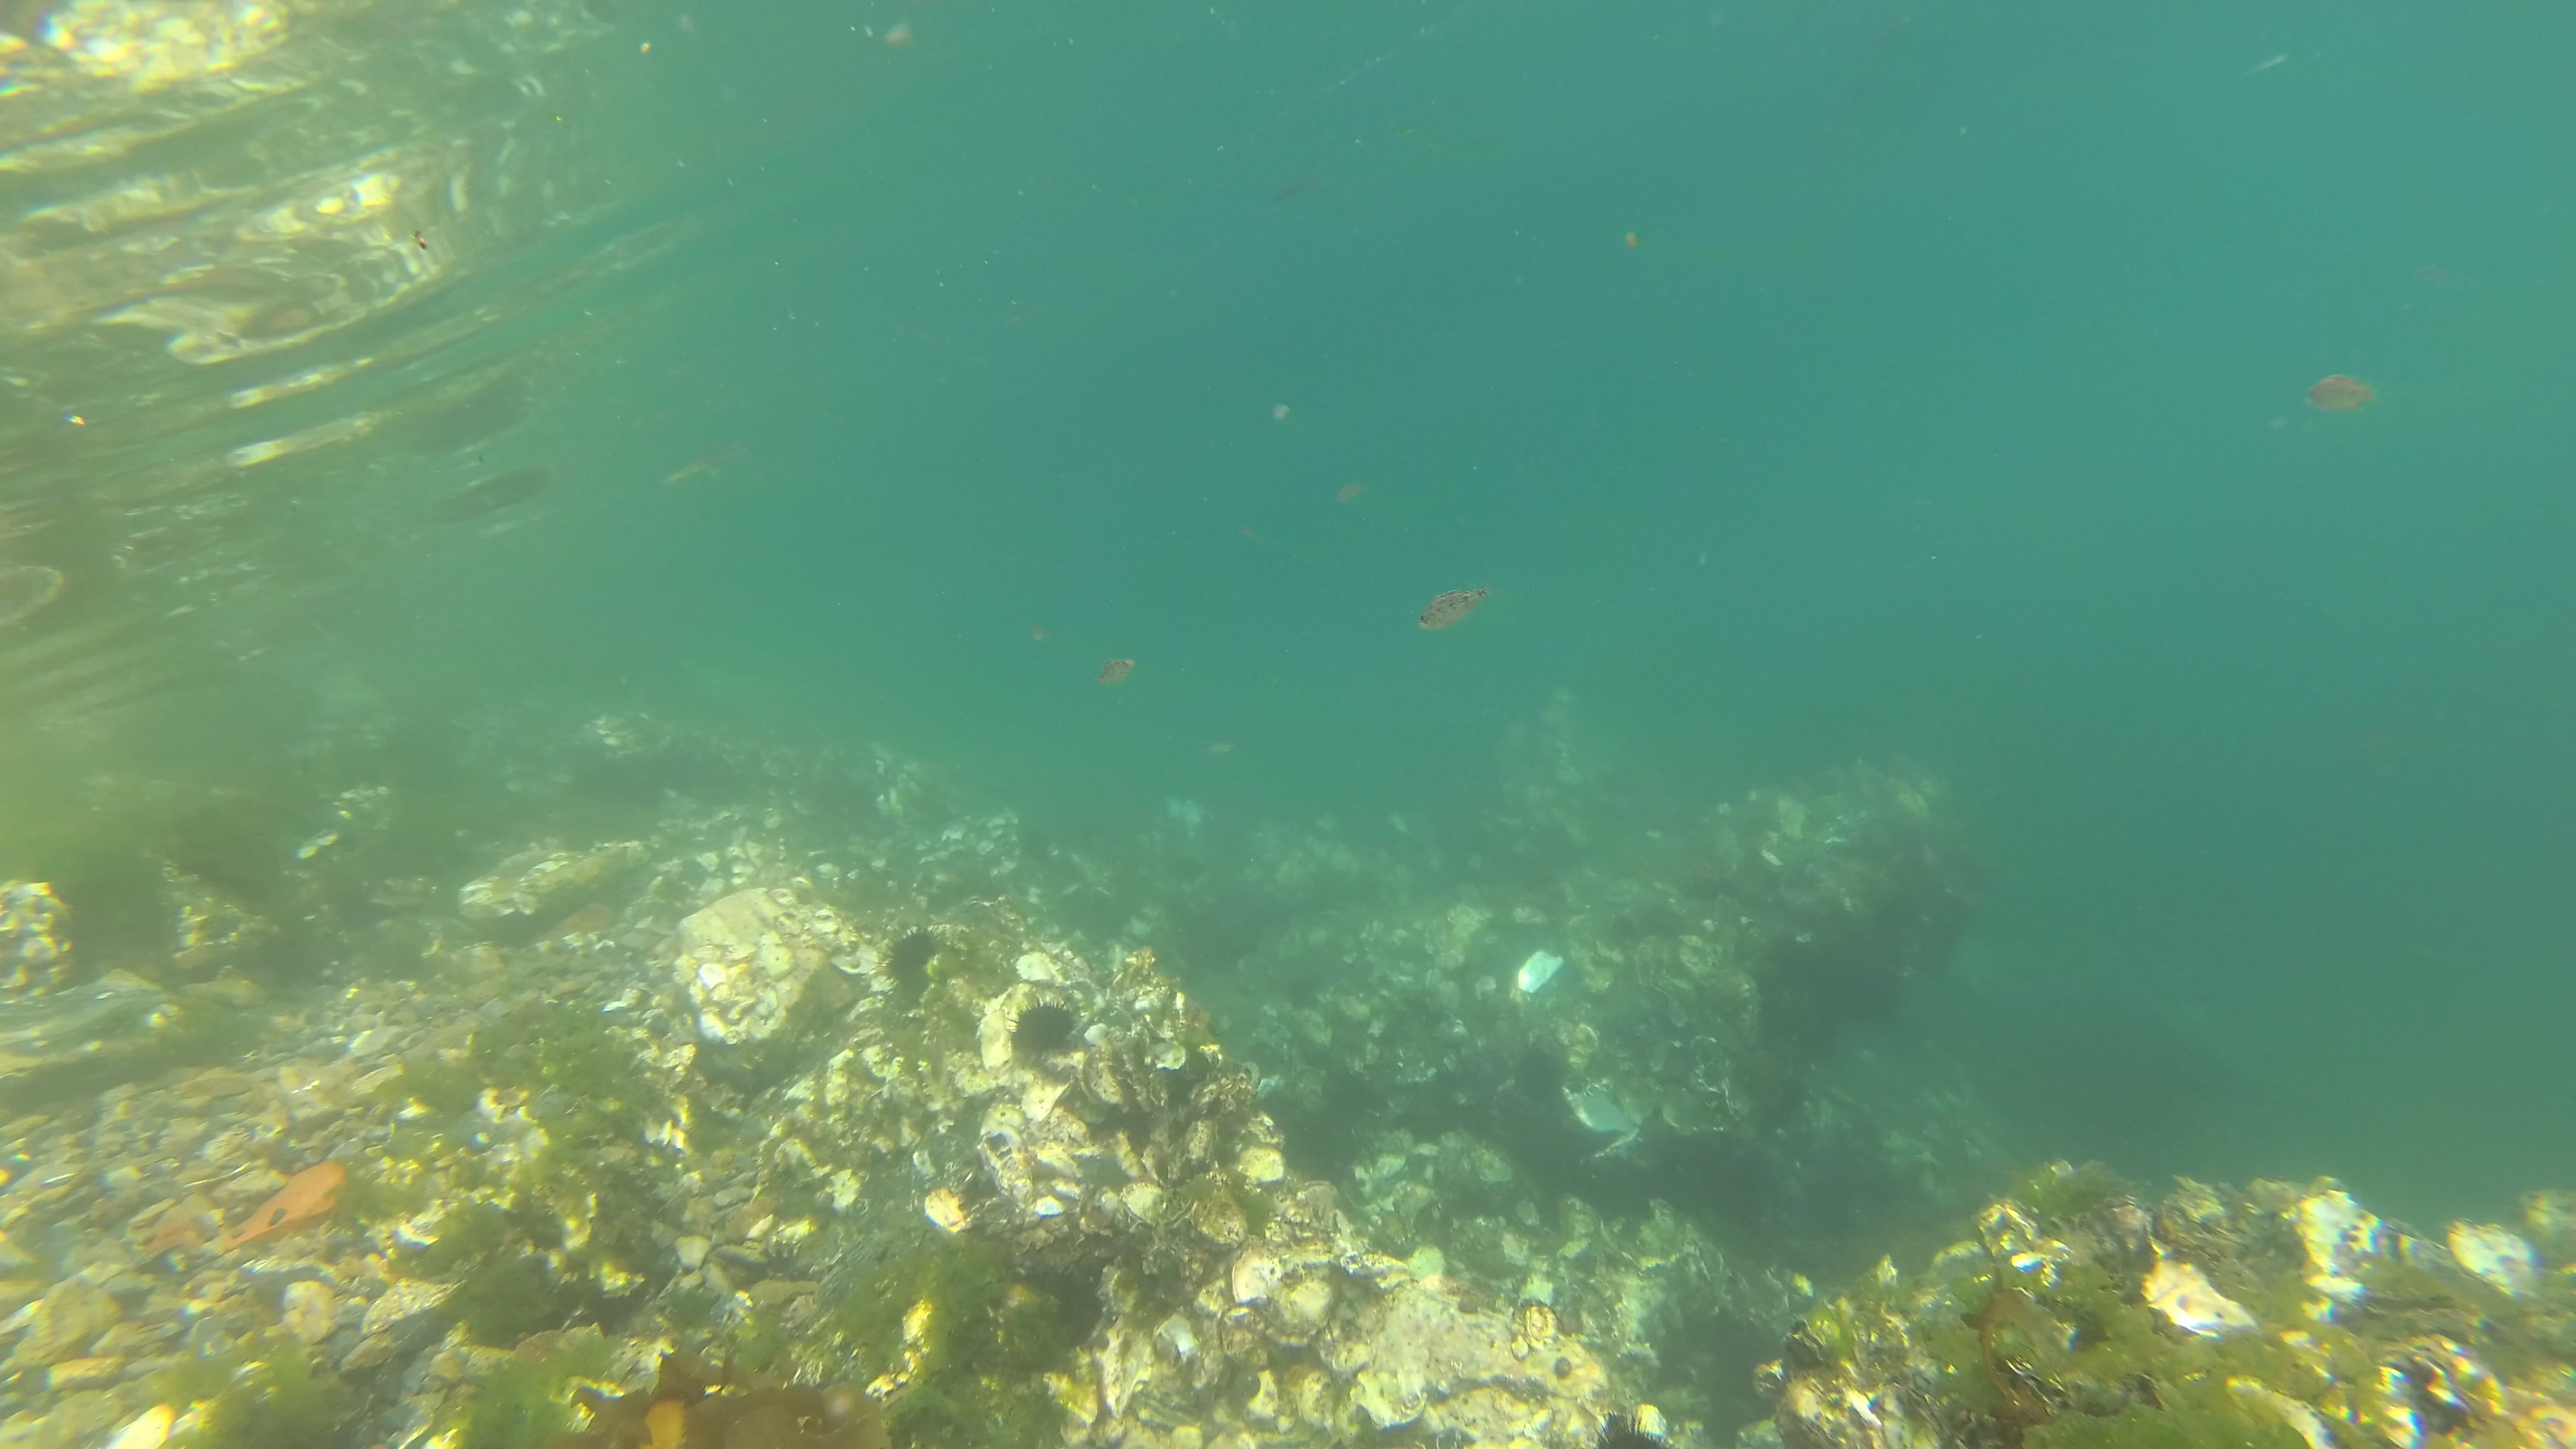echinus: (1300, 1062, 1375, 1129), (1007, 998, 1079, 1065), (1504, 1040, 1576, 1108), (881, 925, 952, 991)
